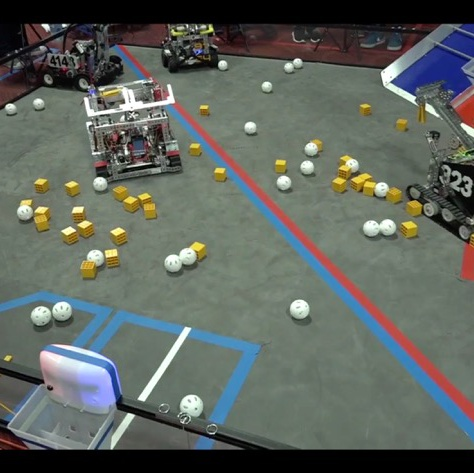robot: (404, 77, 474, 248), (77, 74, 184, 182), (38, 21, 125, 91), (159, 22, 219, 73)
